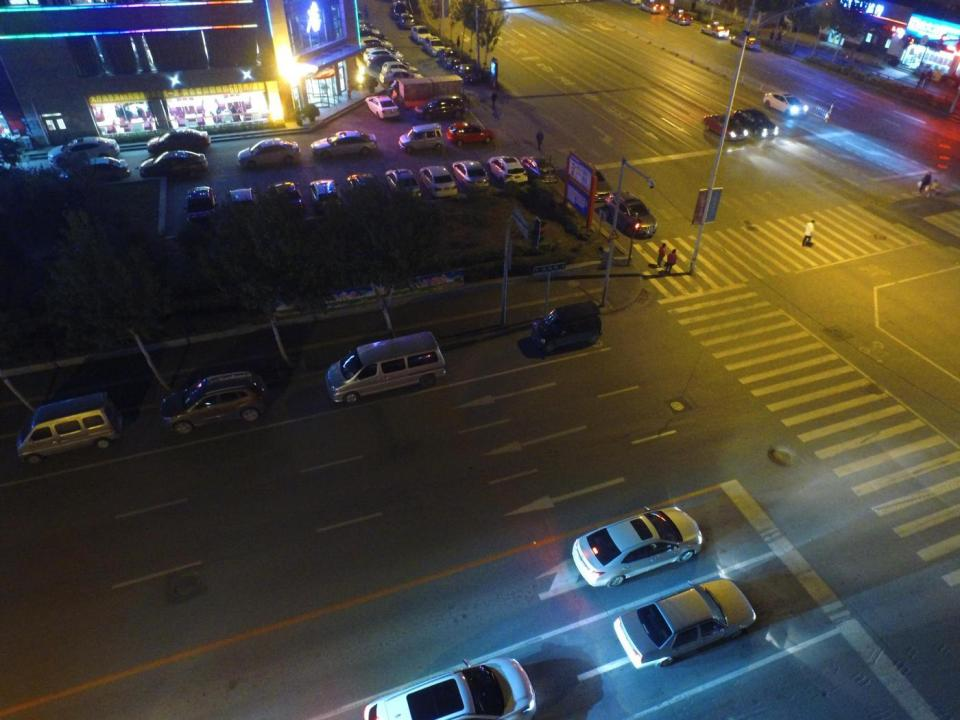car: (614, 576, 758, 668), (364, 655, 536, 720), (572, 507, 700, 593), (159, 371, 268, 437), (531, 301, 599, 351), (139, 151, 209, 184), (237, 138, 303, 170), (312, 130, 380, 160), (609, 192, 655, 236), (46, 135, 120, 161), (564, 163, 612, 200), (62, 158, 130, 184), (345, 175, 385, 218), (308, 180, 346, 224), (487, 154, 529, 193), (148, 129, 212, 154), (186, 185, 219, 233), (268, 182, 308, 220), (416, 93, 468, 122), (400, 123, 447, 153), (227, 189, 259, 233), (419, 164, 459, 199), (761, 90, 807, 119), (453, 158, 492, 192), (386, 168, 422, 204), (704, 114, 748, 143), (734, 109, 778, 137), (521, 156, 558, 189), (378, 69, 428, 91), (447, 122, 494, 145), (367, 94, 400, 118), (363, 46, 406, 62), (454, 65, 482, 88), (359, 36, 397, 52), (728, 34, 763, 50), (380, 62, 421, 75), (703, 20, 731, 38), (666, 9, 693, 26), (424, 36, 444, 56), (368, 56, 405, 66), (389, 1, 408, 20), (353, 29, 385, 40), (439, 49, 457, 68), (411, 26, 430, 44), (354, 21, 377, 35), (642, 2, 662, 14), (402, 16, 414, 29)
van: (326, 330, 446, 402), (14, 392, 119, 469)
